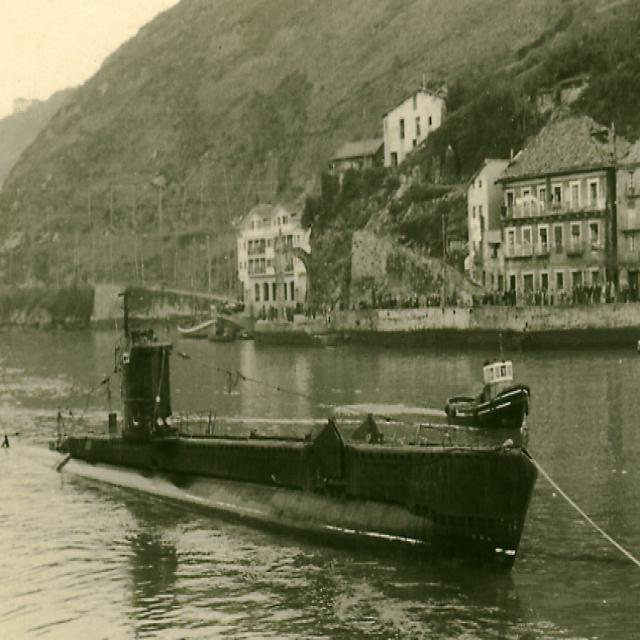submarine: (51, 347, 540, 573)
